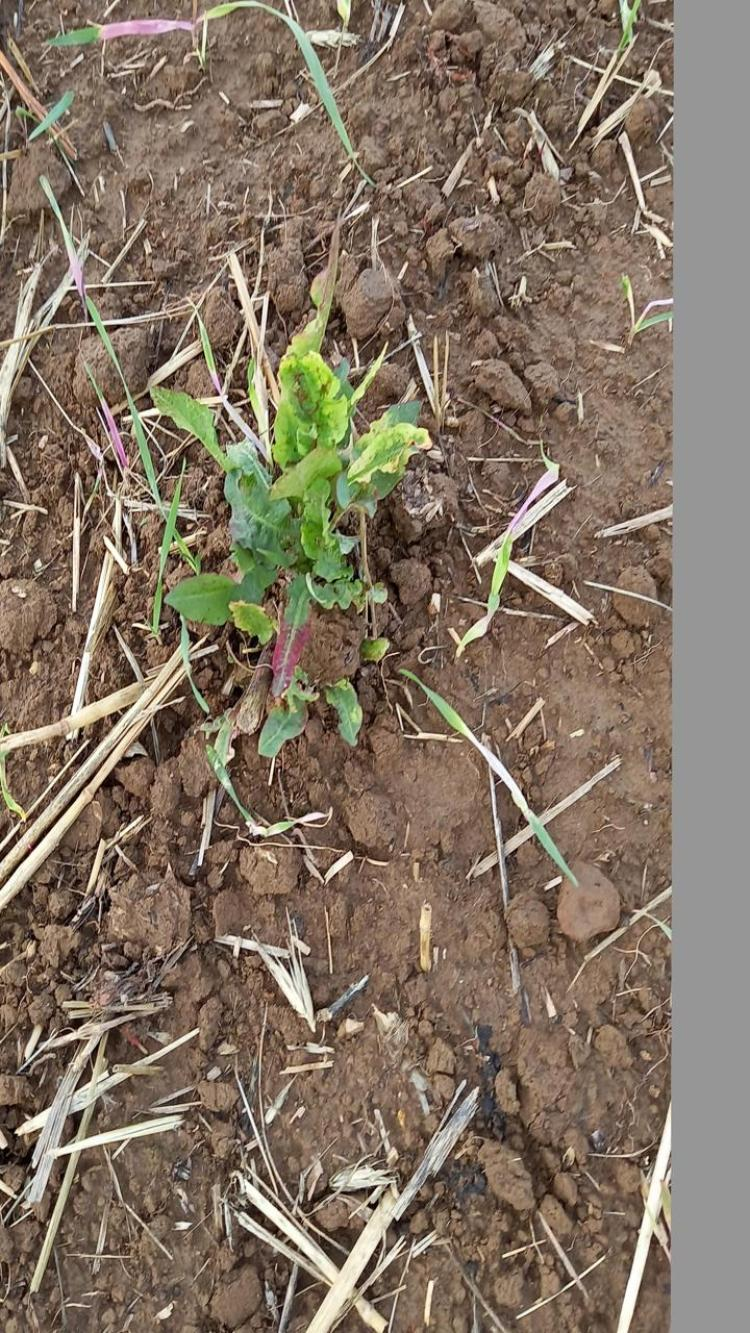zhavel: (146, 210, 437, 752)
